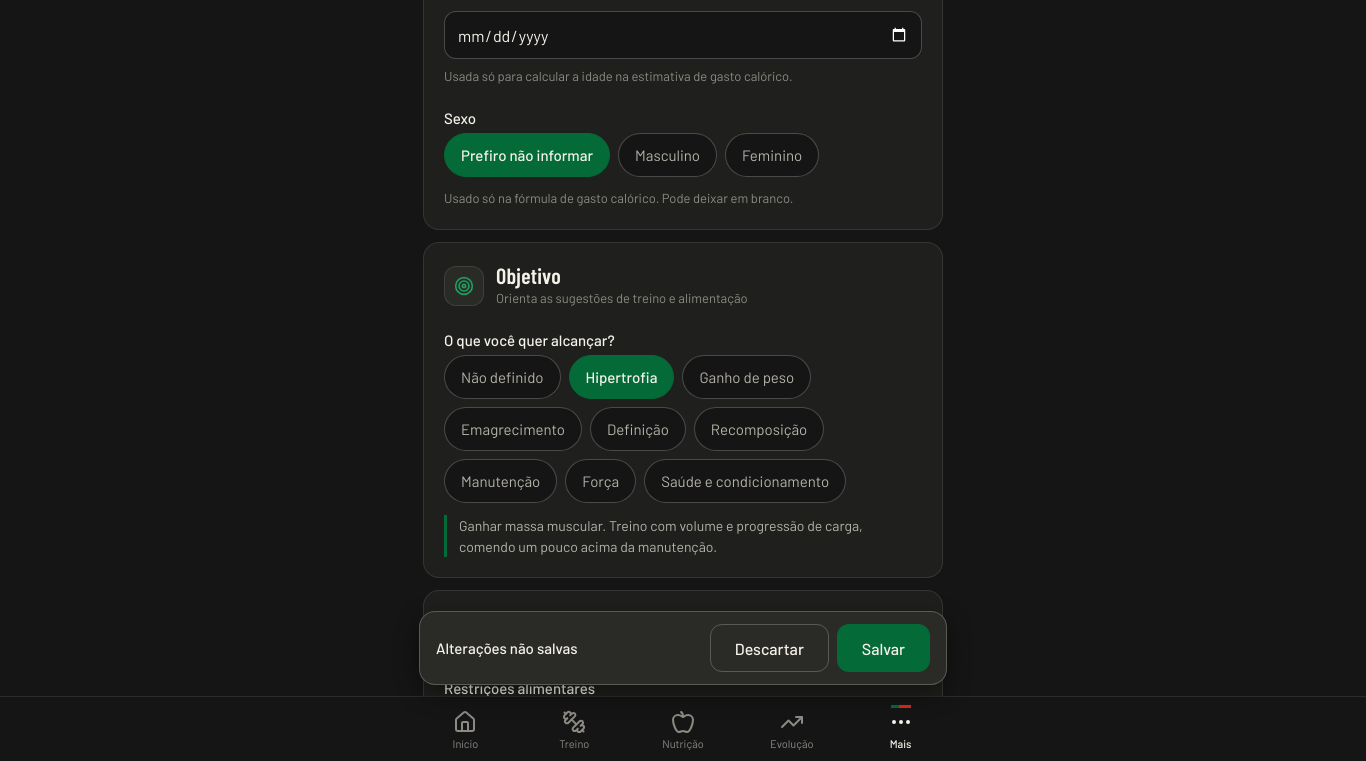
it: Configurações › salva medidas, objetivo e restrições, e os dados persistem no banco
Earlier steps of the test are not shown.
(page scrolled)
Click the button "Salvar": point(883, 648) [837,624,930,672]
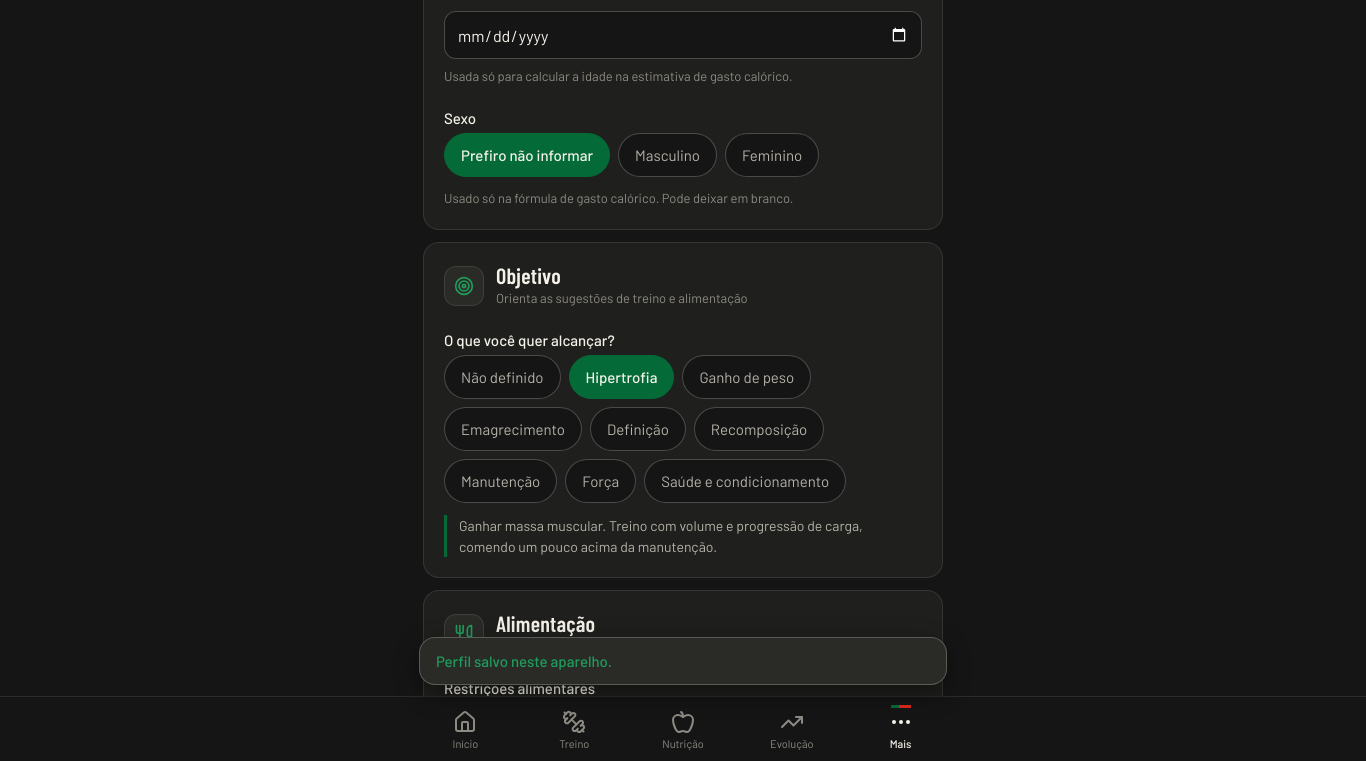
Now the text "Perfil salvo neste aparelho." is shown, box [436,650,612,672]
